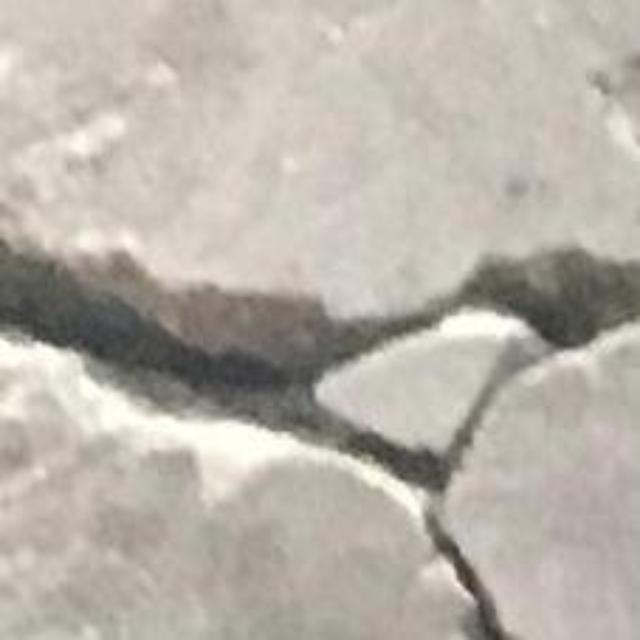crack: (0, 237, 639, 639)
